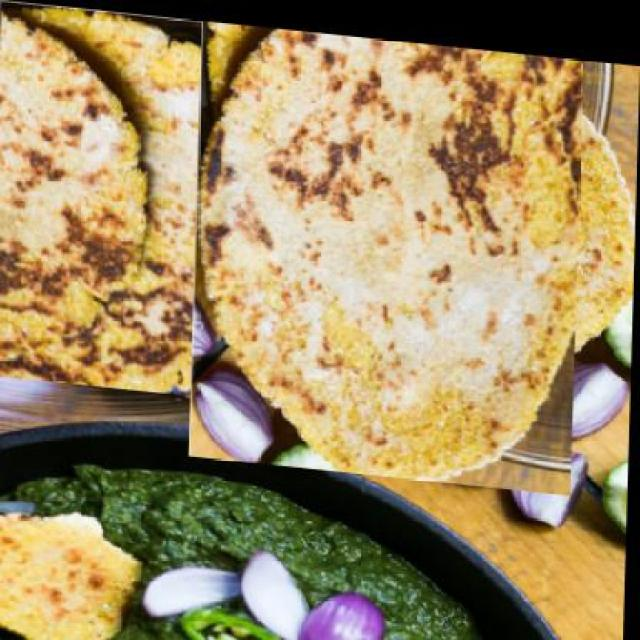chapati: (166, 14, 612, 460), (0, 0, 302, 402)
